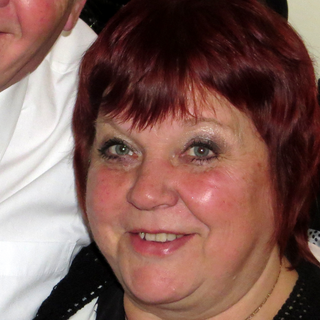eye: (178, 138, 224, 165), (97, 136, 139, 163)
